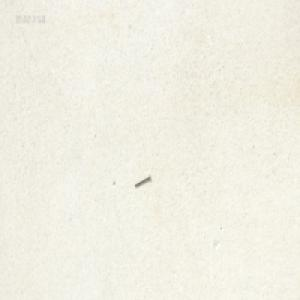Bolt: (133, 174, 150, 187)
